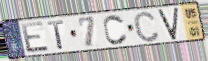7: (77, 14, 97, 49)
C: (132, 10, 161, 44), (102, 14, 129, 46)
E: (19, 21, 51, 55)
T: (46, 19, 66, 51)
V: (157, 6, 179, 42)
